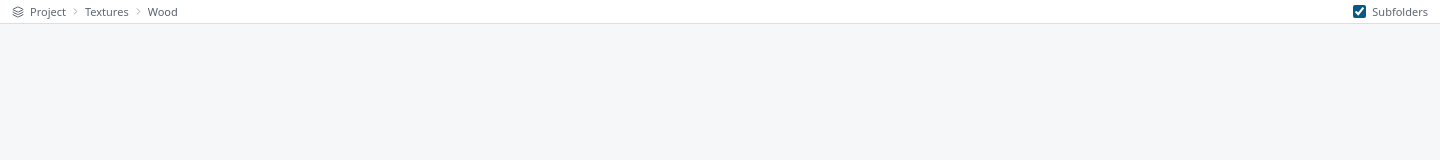
Test: the breadcrumb renders the source and its path segments and re-scopes on click
Expected: the navigation bar named "Folder path" is shown, [0,0,1439,24]
Expected: the button "Project" is shown, [30,4,66,19]
Click the button "Textures".
click(107, 12)  # box [85,4,129,19]
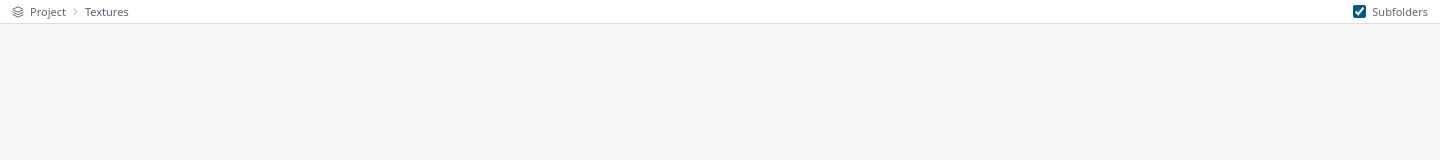
Expected: the button "Wood" is gone
